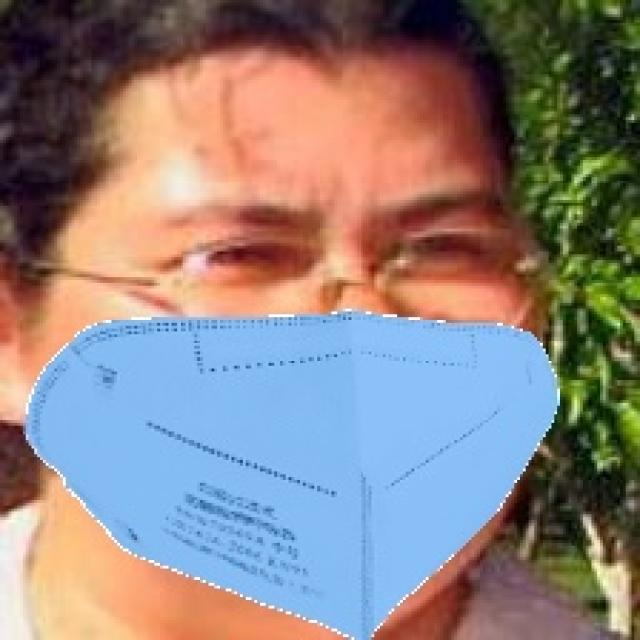mask: (11, 295, 568, 640)
